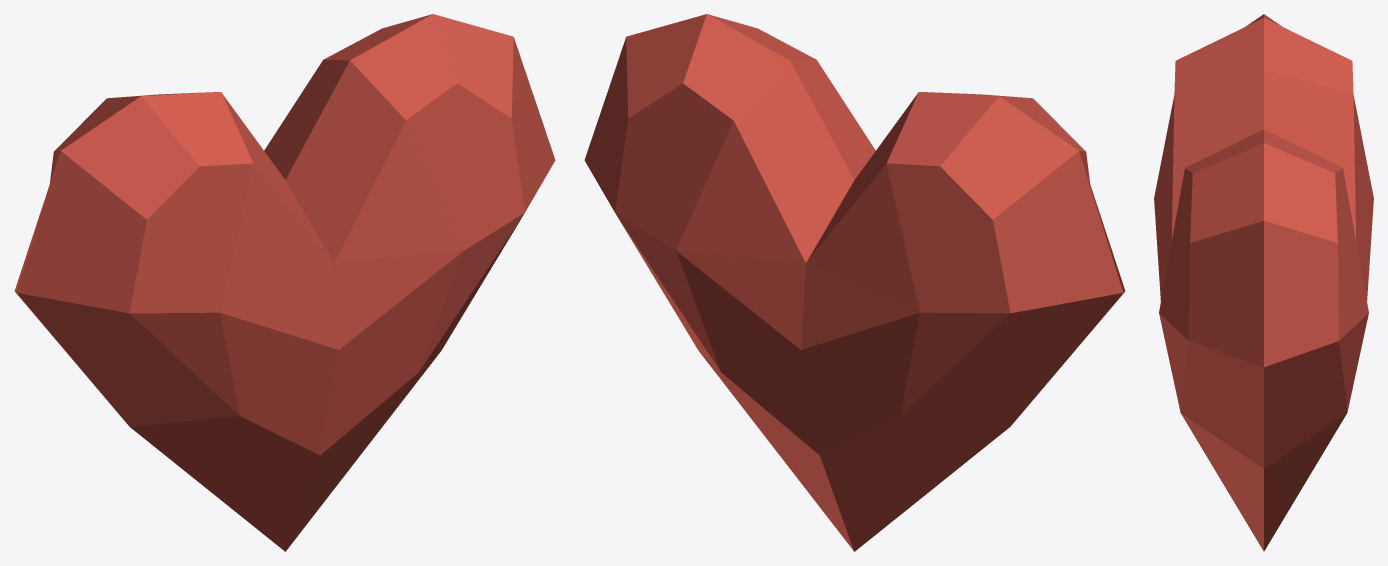
The model's file is heart.fbx.
The picture shows the model from 3 angles, left to right: view 1: azimuth 30°, elevation 25°; view 2: azimuth 150°, elevation 25°; view 3: azimuth 270°, elevation 25°; orthographic projection. The views are drawn at different scales.
Visible parts, largest first — view 1: Plane; view 2: Plane; view 3: Plane.
Part boxes in pixels (bbox=[...]): Plane: bbox=[14, 14, 555, 551]; Plane: bbox=[584, 14, 1125, 551]; Plane: bbox=[1154, 14, 1373, 551].
Bounding box in the file's own units: 438 × 389 × 162.
